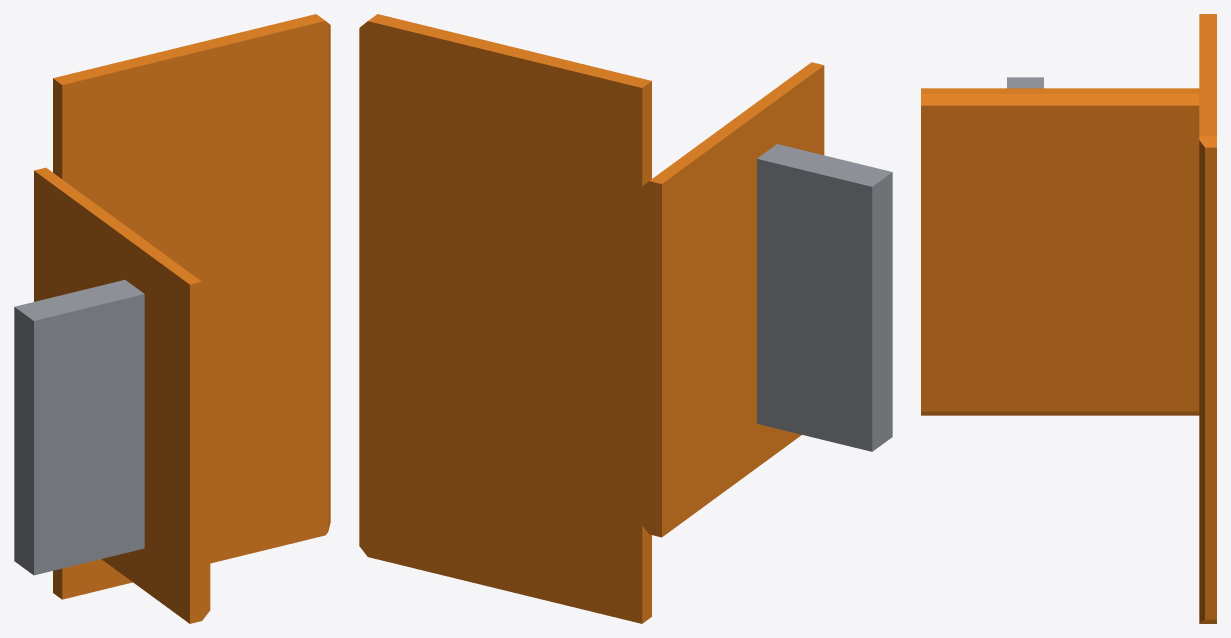
The model's file is fork_carriage.obj.
The picture shows the model from 3 angles, left to right: view 1: azimuth 30°, elevation 25°; view 2: azimuth 150°, elevation 25°; view 3: azimuth 270°, elevation 25°; orthographic projection. The views are drawn at different scales.
Parts seen in each view (by area): view 1: fork, shoe, carriage; view 2: fork, carriage, shoe; view 3: carriage, fork, shoe.
Part boxes in pixels (bbox=[...]): fork: bbox=[53, 14, 330, 599]; shoe: bbox=[14, 280, 144, 575]; carriage: bbox=[34, 167, 210, 623]; fork: bbox=[359, 14, 651, 623]; carriage: bbox=[640, 62, 824, 537]; shoe: bbox=[757, 144, 892, 451]; carriage: bbox=[921, 88, 1199, 415]; fork: bbox=[1199, 14, 1216, 623]; shoe: bbox=[1007, 77, 1043, 88].
Size of the model in its own units: 0.297 by 0.364 by 0.2.
